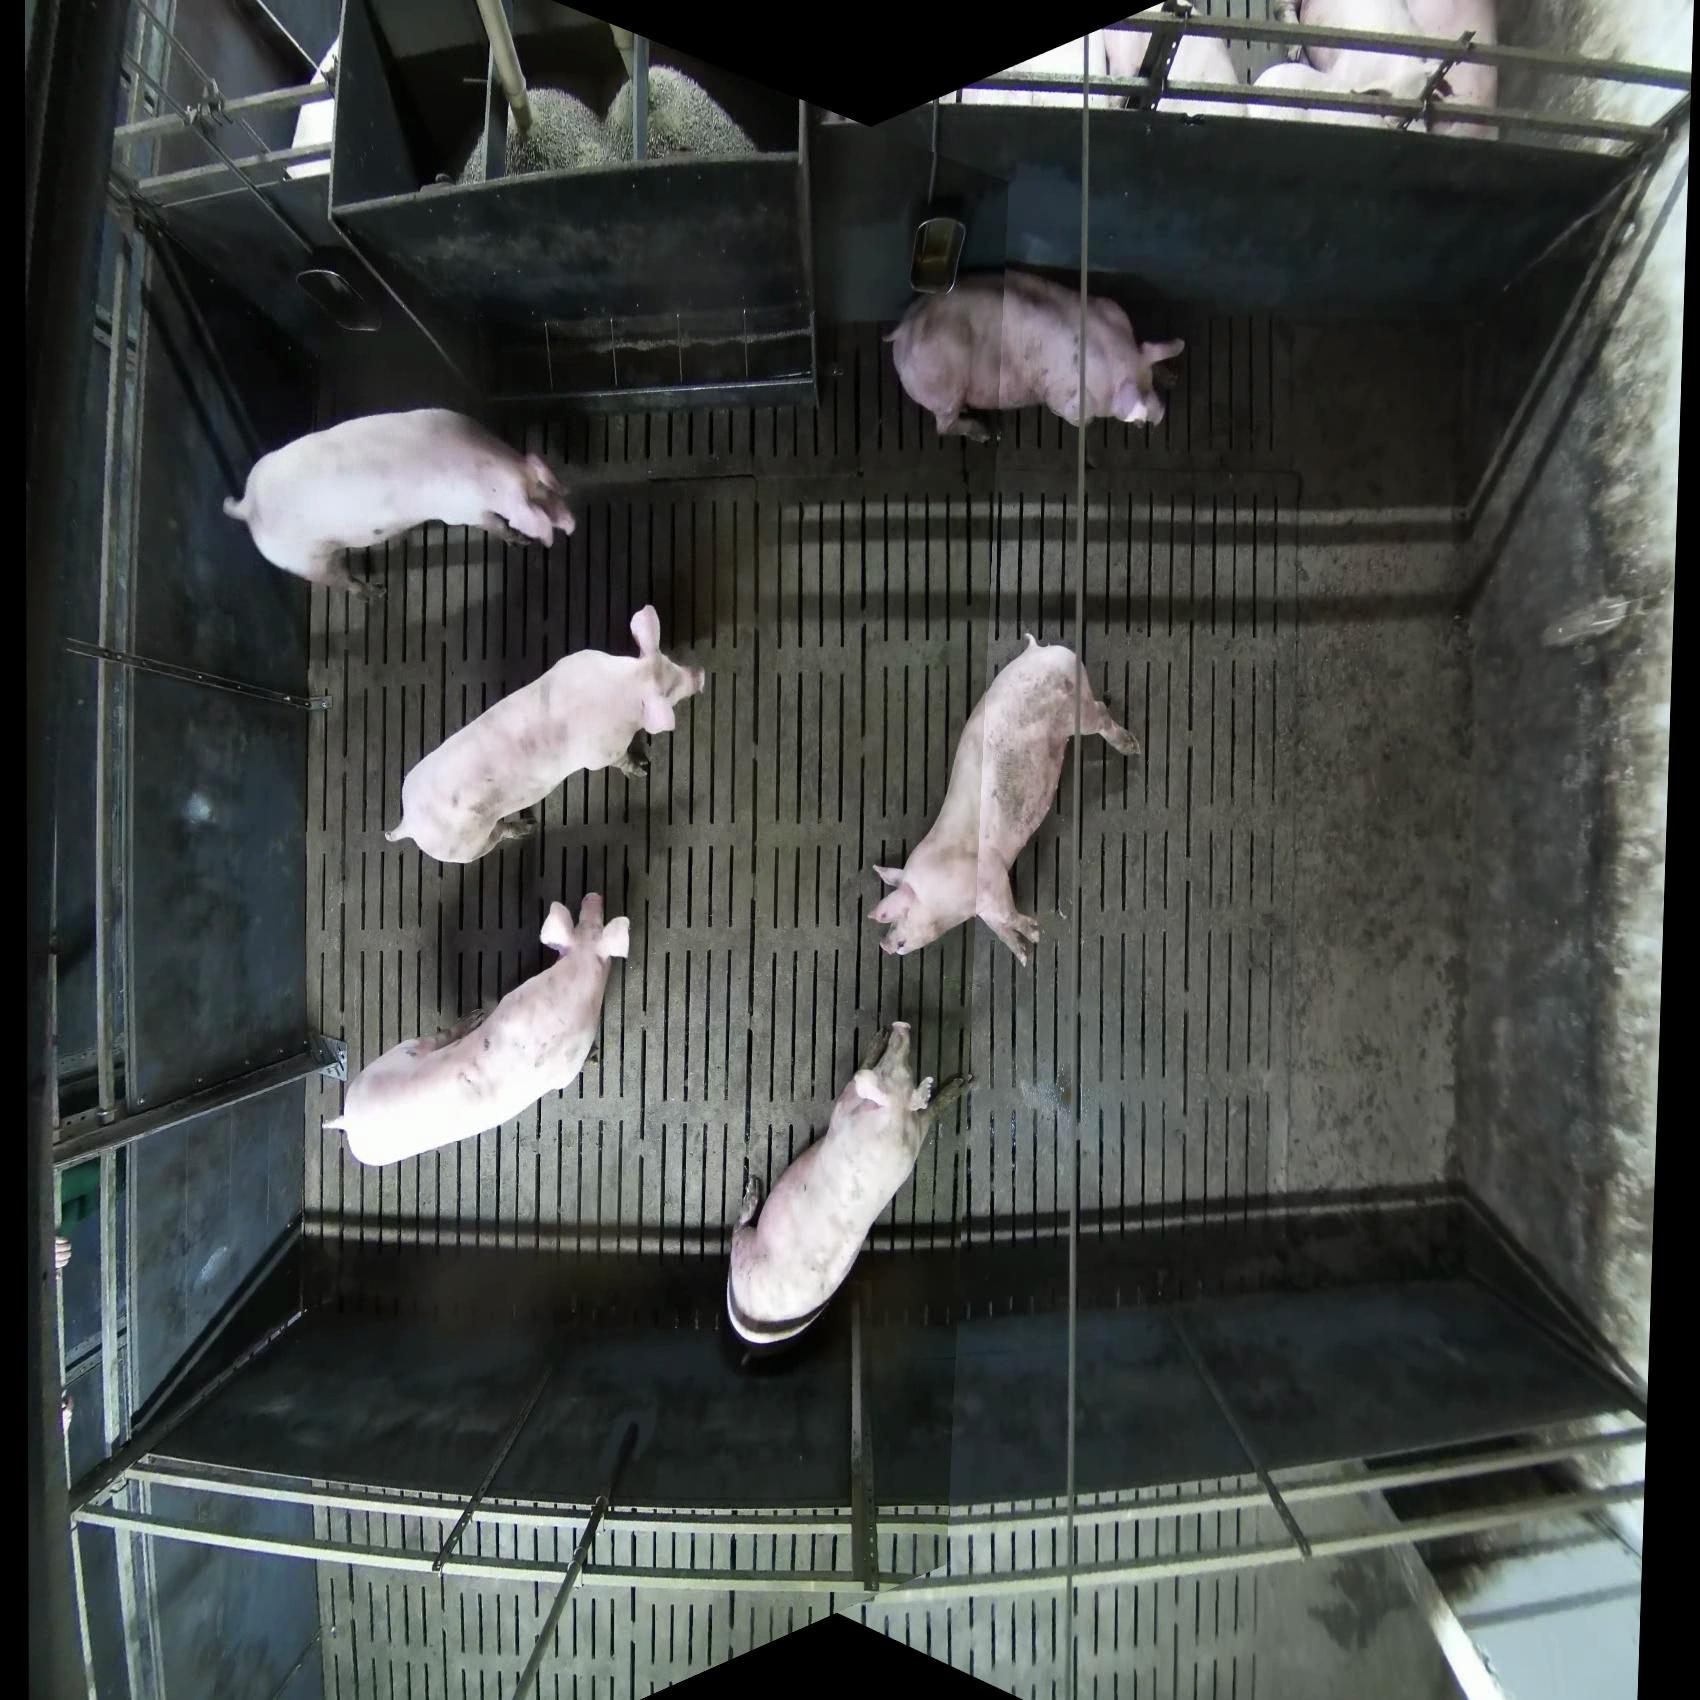pig: (867, 630, 1143, 971), (321, 890, 632, 1169), (381, 604, 707, 869), (724, 1020, 978, 1350), (223, 405, 578, 602), (886, 268, 1186, 444), (1249, 2, 1501, 140), (1094, 20, 1247, 118)
